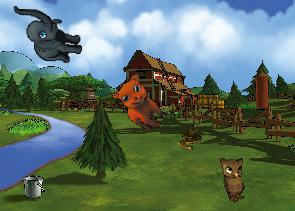bear: (106, 69, 177, 136)
elephant: (12, 5, 83, 63)
owl: (214, 150, 257, 204)
